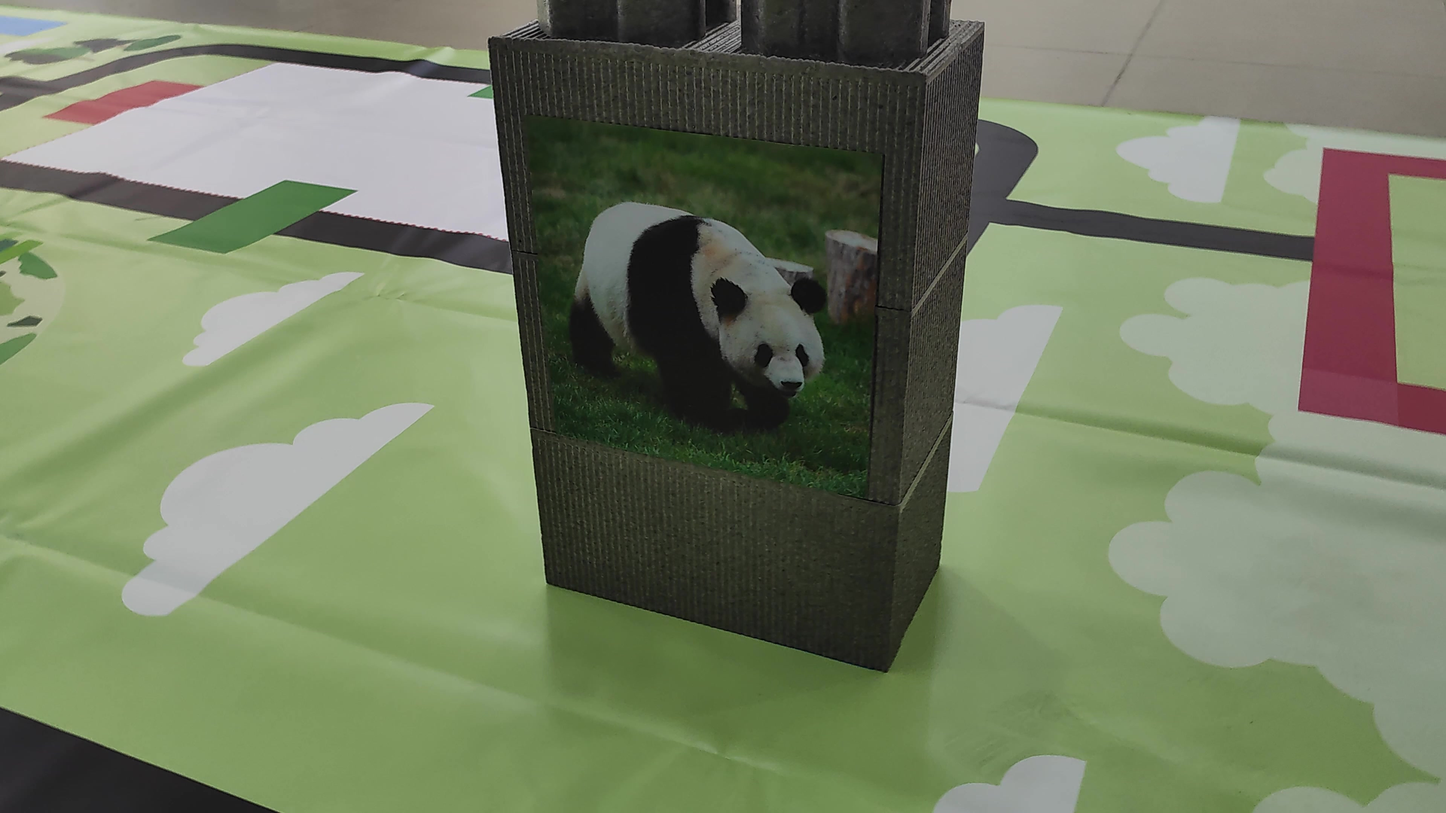panda: (533, 134, 868, 474)
